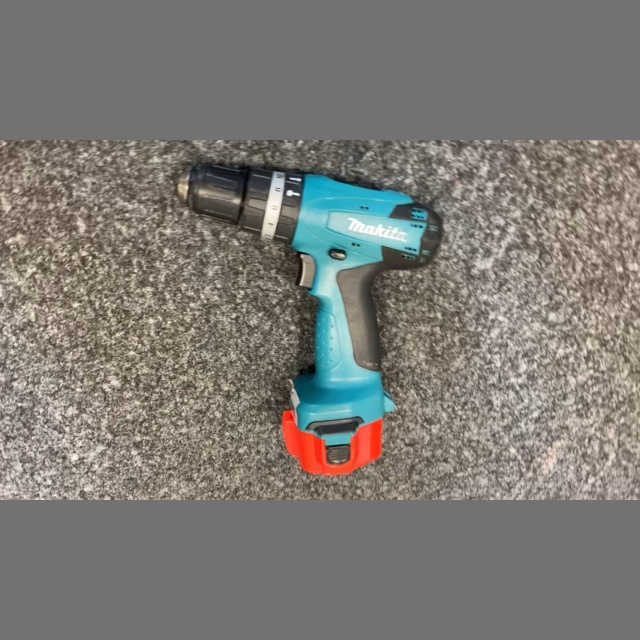drill: (168, 157, 452, 480)
